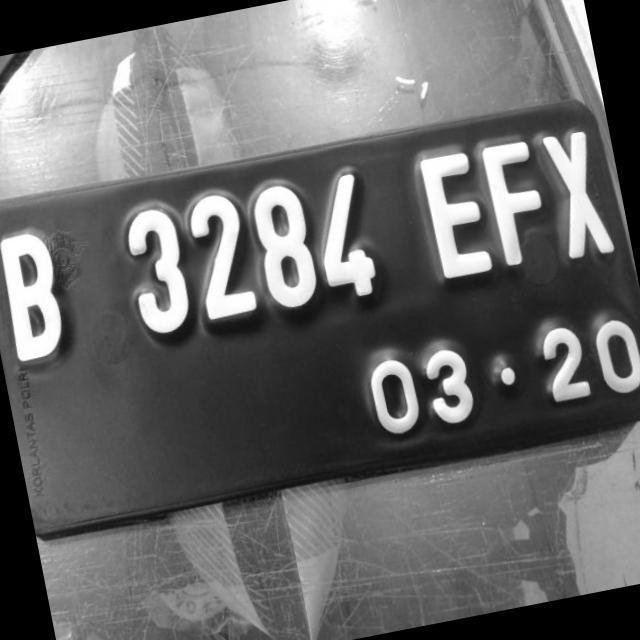2: (168, 182, 276, 379)
3: (114, 196, 197, 348)
4: (296, 157, 398, 307)
8: (245, 172, 332, 364)
B: (0, 208, 107, 385)
E: (411, 135, 503, 314)
F: (481, 123, 557, 279)
X: (538, 110, 619, 286)
